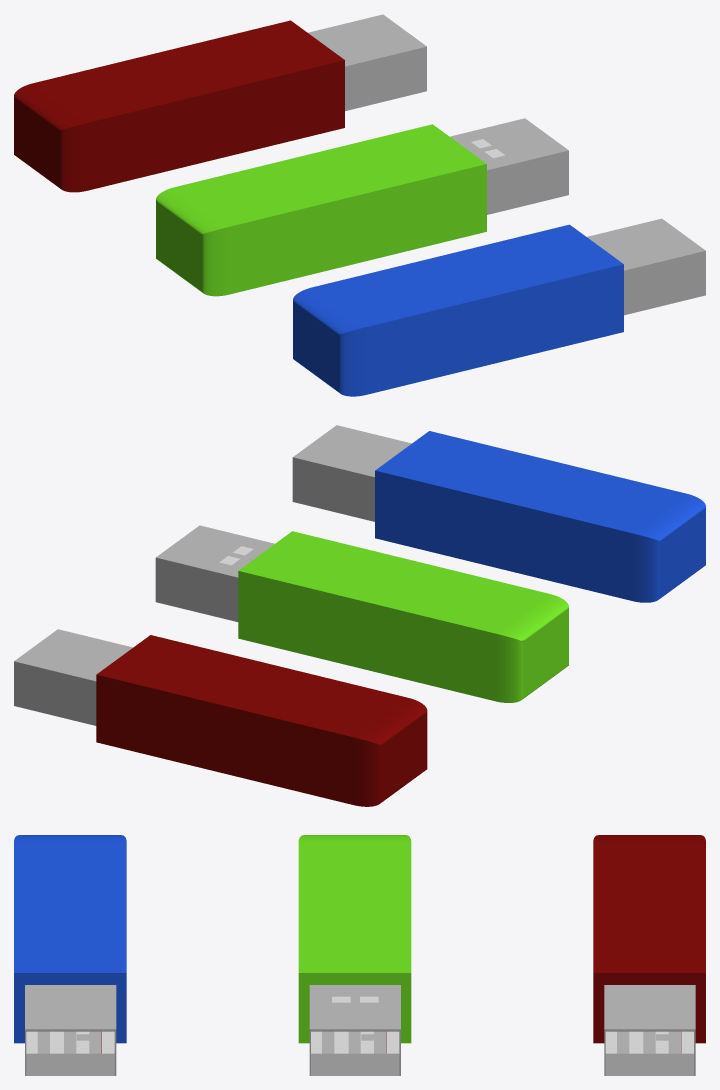
The model's file is Flashdrive_models.glb.
3 renders of one model, top to bottom at view 1: azimuth 30°, elevation 25°; view 2: azimuth 150°, elevation 25°; view 3: azimuth 270°, elevation 25°, orthographic. The views are drawn at different scales.
Visible parts, largest first — view 1: Flashdrive_blue, Flashdrive_red, Flashdrive_green; view 2: Flashdrive_red, Flashdrive_blue, Flashdrive_green; view 3: Flashdrive_green, Flashdrive_red, Flashdrive_blue.
Boxes of the visible parts, bbox=[...] form: Flashdrive_blue: bbox=[293, 218, 705, 396]; Flashdrive_red: bbox=[14, 14, 426, 192]; Flashdrive_green: bbox=[156, 118, 568, 296]; Flashdrive_red: bbox=[14, 629, 427, 806]; Flashdrive_blue: bbox=[292, 425, 705, 602]; Flashdrive_green: bbox=[155, 525, 568, 702]; Flashdrive_green: bbox=[298, 835, 411, 1075]; Flashdrive_red: bbox=[593, 835, 705, 1075]; Flashdrive_blue: bbox=[14, 835, 126, 1075].
Size of the model in its own units: 4.82 by 0.8487 by 7.56.
